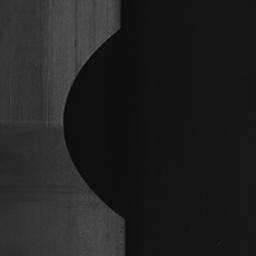Crescent gap: (64, 29, 124, 218)
